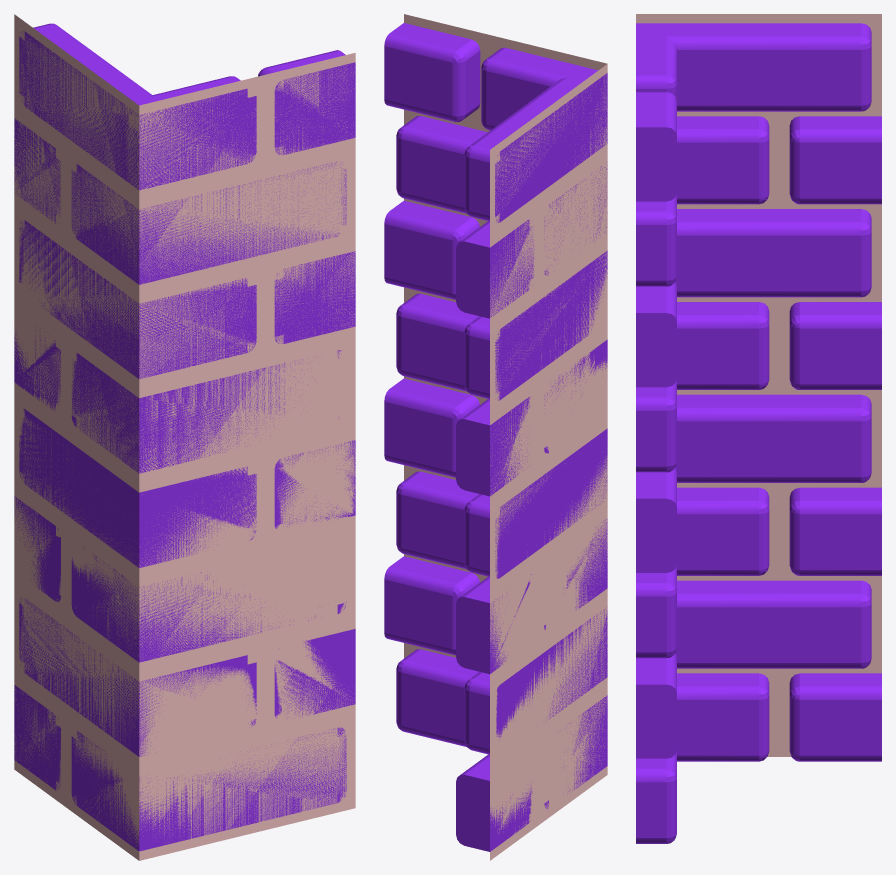
File: concave_1_low.dae
3 renders of one model, left to right at view 1: azimuth 30°, elevation 25°; view 2: azimuth 150°, elevation 25°; view 3: azimuth 270°, elevation 25°, orthographic. The views are drawn at different scales.
Visible parts, largest first — view 1: group_2 (×8), corner_concave_1 (×8), group_3 (×8), group_4 (×8), brick_half_1 (×8); view 2: corner_concave_1 (×13), brick_half_1 (×8), group_3 (×5), group_2 (×5), group_4 (×5), st4 (×4), st3; view 3: corner_concave_1 (×16), brick_half_1 (×8), st3 (×16), group_2 (×4), st4 (×8), group_4 (×4), group_3 (×4).
Boxes of the visible parts, <box> form: group_2 (×8): <box>14,14,355,860</box>; corner_concave_1 (×8): <box>19,24,346,851</box>; group_3 (×8): <box>66,74,265,860</box>; group_4 (×8): <box>14,53,355,807</box>; brick_half_1 (×8): <box>14,51,355,790</box>; corner_concave_1 (×13): <box>401,48,607,791</box>; brick_half_1 (×8): <box>384,23,533,851</box>; group_3 (×5): <box>488,35,607,824</box>; group_2 (×5): <box>404,64,607,771</box>; group_4 (×5): <box>404,14,538,860</box>; st4 (×4): <box>384,33,456,595</box>; st3: <box>452,61,465,116</box>; corner_concave_1 (×16): <box>636,23,861,837</box>; brick_half_1 (×8): <box>636,92,881,758</box>; st3 (×16): <box>666,46,871,837</box>; group_2 (×4): <box>636,14,881,664</box>; st4 (×8): <box>800,129,881,761</box>; group_4 (×4): <box>779,107,881,756</box>; group_3 (×4): <box>677,111,779,756</box>.
Bounding box in the file's own units: 23.62 × 23.62 × 78.74.
